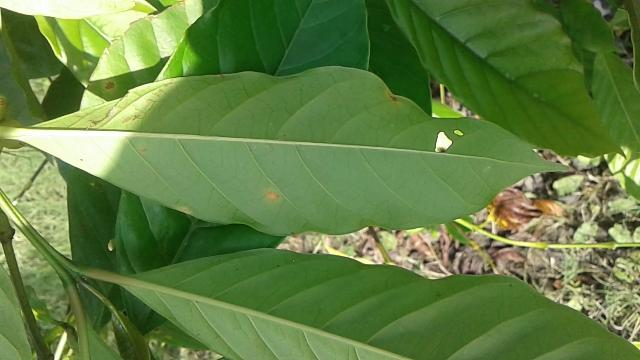rust_level_1: (15, 64, 569, 233)
